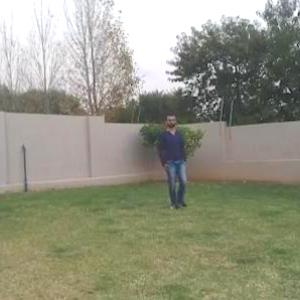follow: (163, 118, 187, 211)
